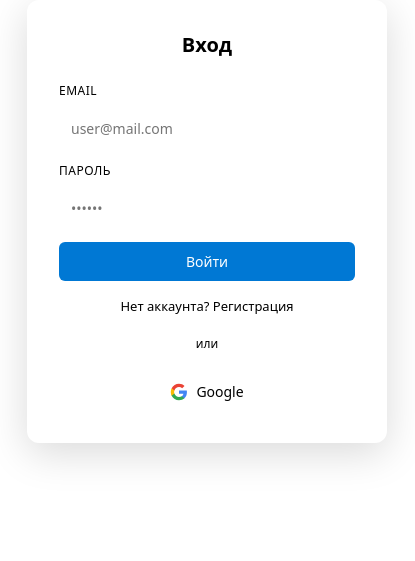
Scenario: Register › переключение обратно на вход
Click the button with class "auth-link". click: coordinates (253, 306)
box: [213,297,294,315]
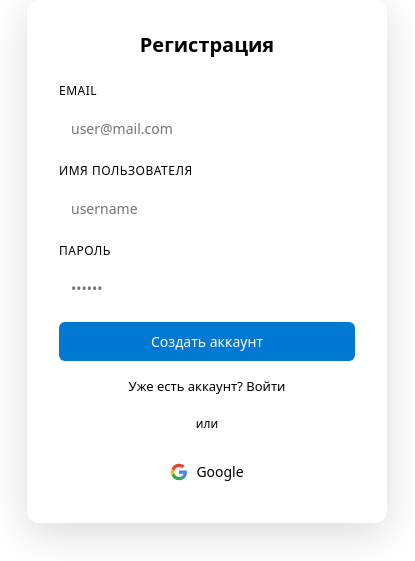
Click the button with class "auth-link". click: coordinates (266, 386)
box: [246,377,285,395]
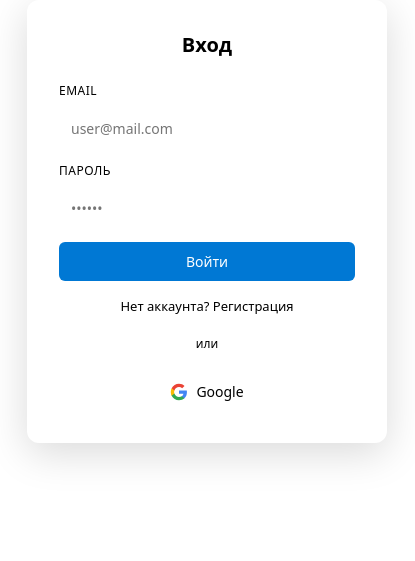
Expected: the text "Вход" is shown, [182,31,232,58]
